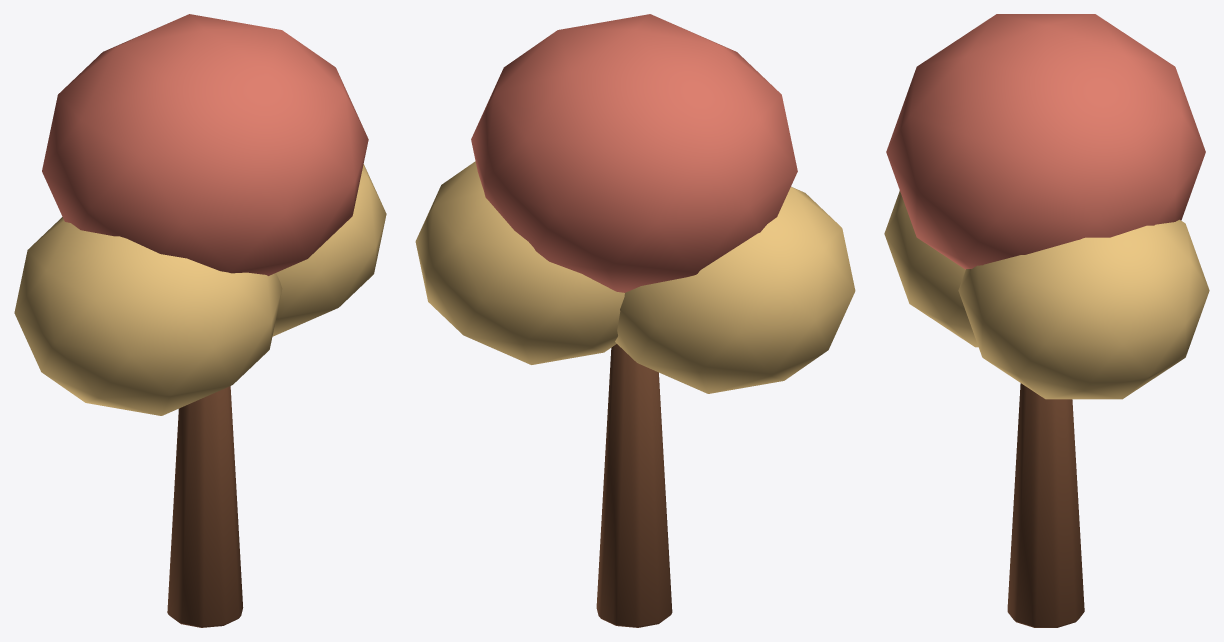
3 renders of one model, left to right at view 1: azimuth 30°, elevation 25°; view 2: azimuth 150°, elevation 25°; view 3: azimuth 270°, elevation 25°, orthographic.
Visible parts, largest first — view 1: Maple_Puff_2, golden_maple, Maple_Trunk; view 2: Maple_Puff_2, golden_maple, Maple_Trunk; view 3: Maple_Puff_2, golden_maple, Maple_Trunk.
Part boxes in pixels (left/top/right/bottom): Maple_Puff_2: left=42, top=14, right=368, bottom=275; golden_maple: left=14, top=164, right=386, bottom=415; Maple_Trunk: left=167, top=386, right=243, bottom=627; Maple_Puff_2: left=471, top=14, right=797, bottom=292; golden_maple: left=415, top=161, right=855, bottom=393; Maple_Trunk: left=596, top=344, right=672, bottom=627; Maple_Puff_2: left=886, top=14, right=1205, bottom=269; golden_maple: left=884, top=190, right=1209, bottom=399; Maple_Trunk: left=1007, top=383, right=1084, bottom=627.
Size of the model in its own units: 2.93 by 4.45 by 2.23.
